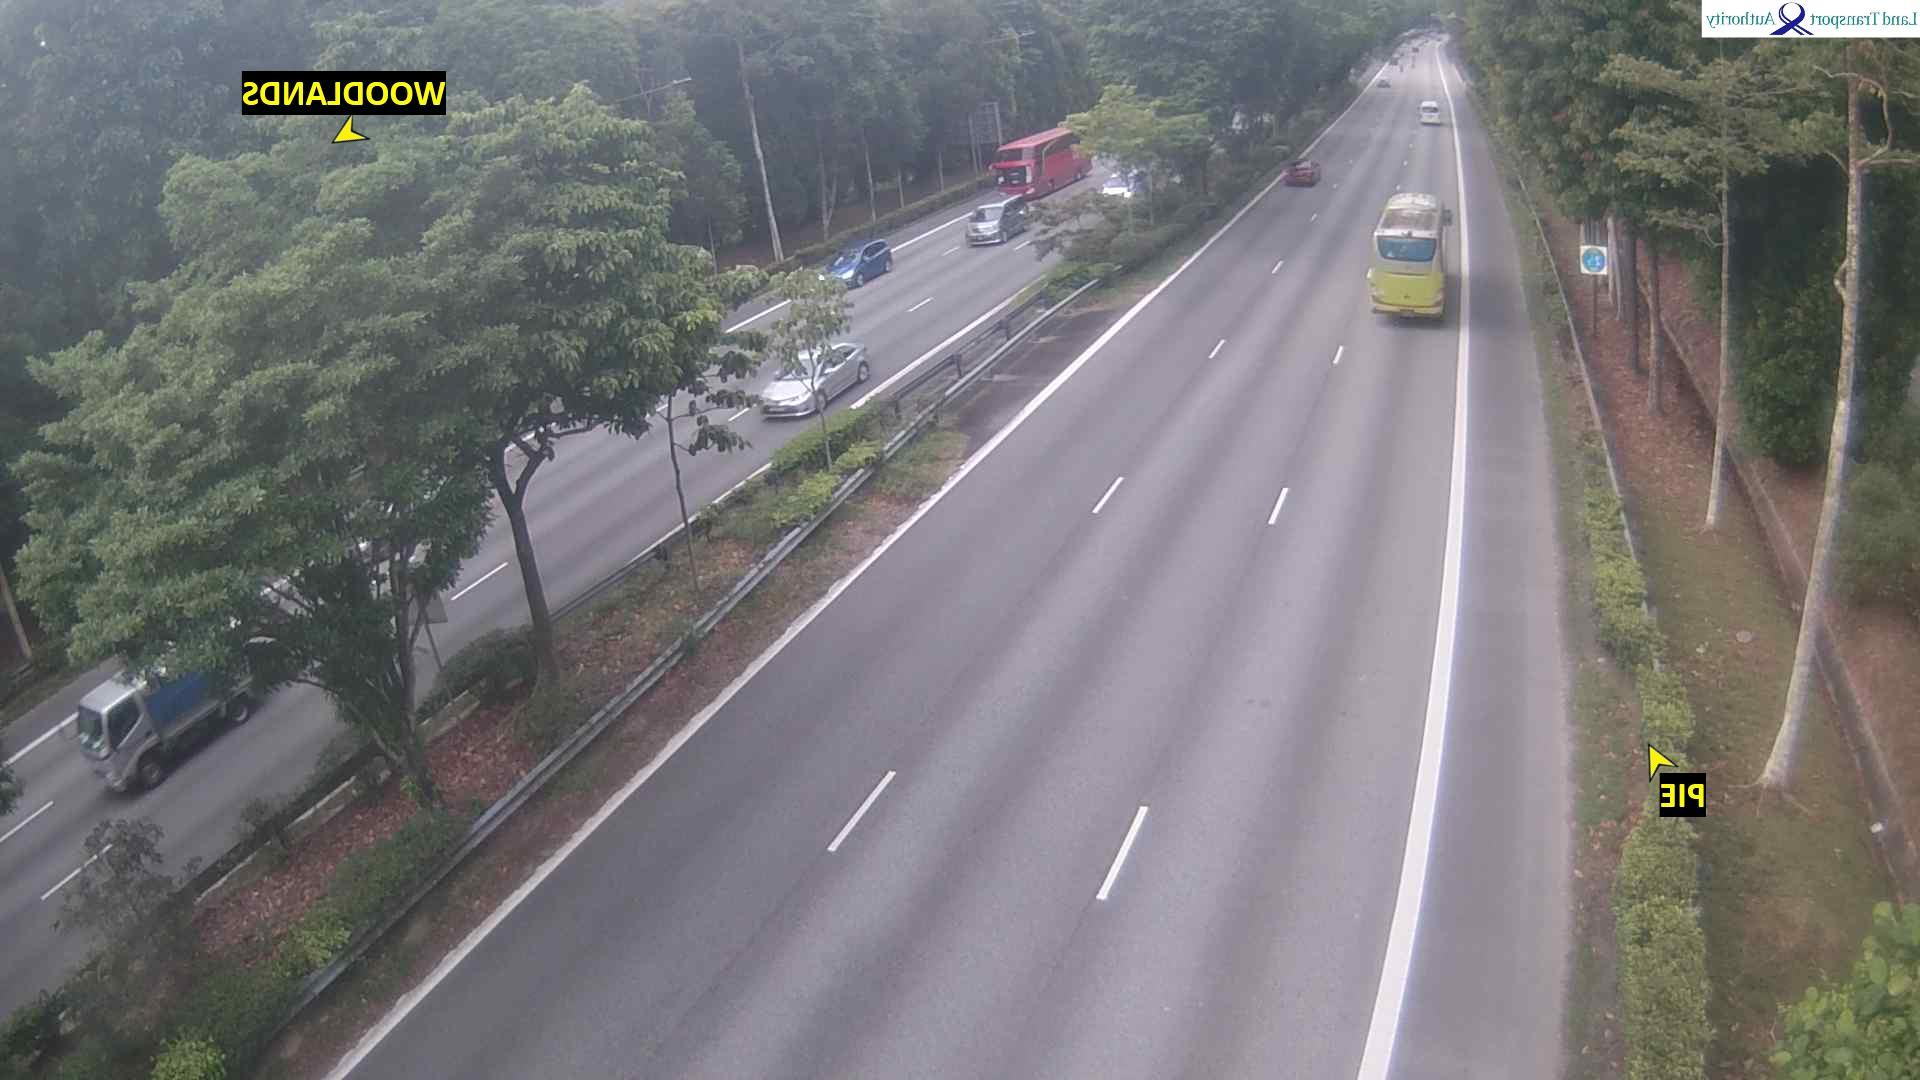incoming: (71, 692, 160, 793), (762, 365, 824, 421), (989, 138, 1038, 196), (967, 206, 1009, 247), (836, 252, 864, 289)
